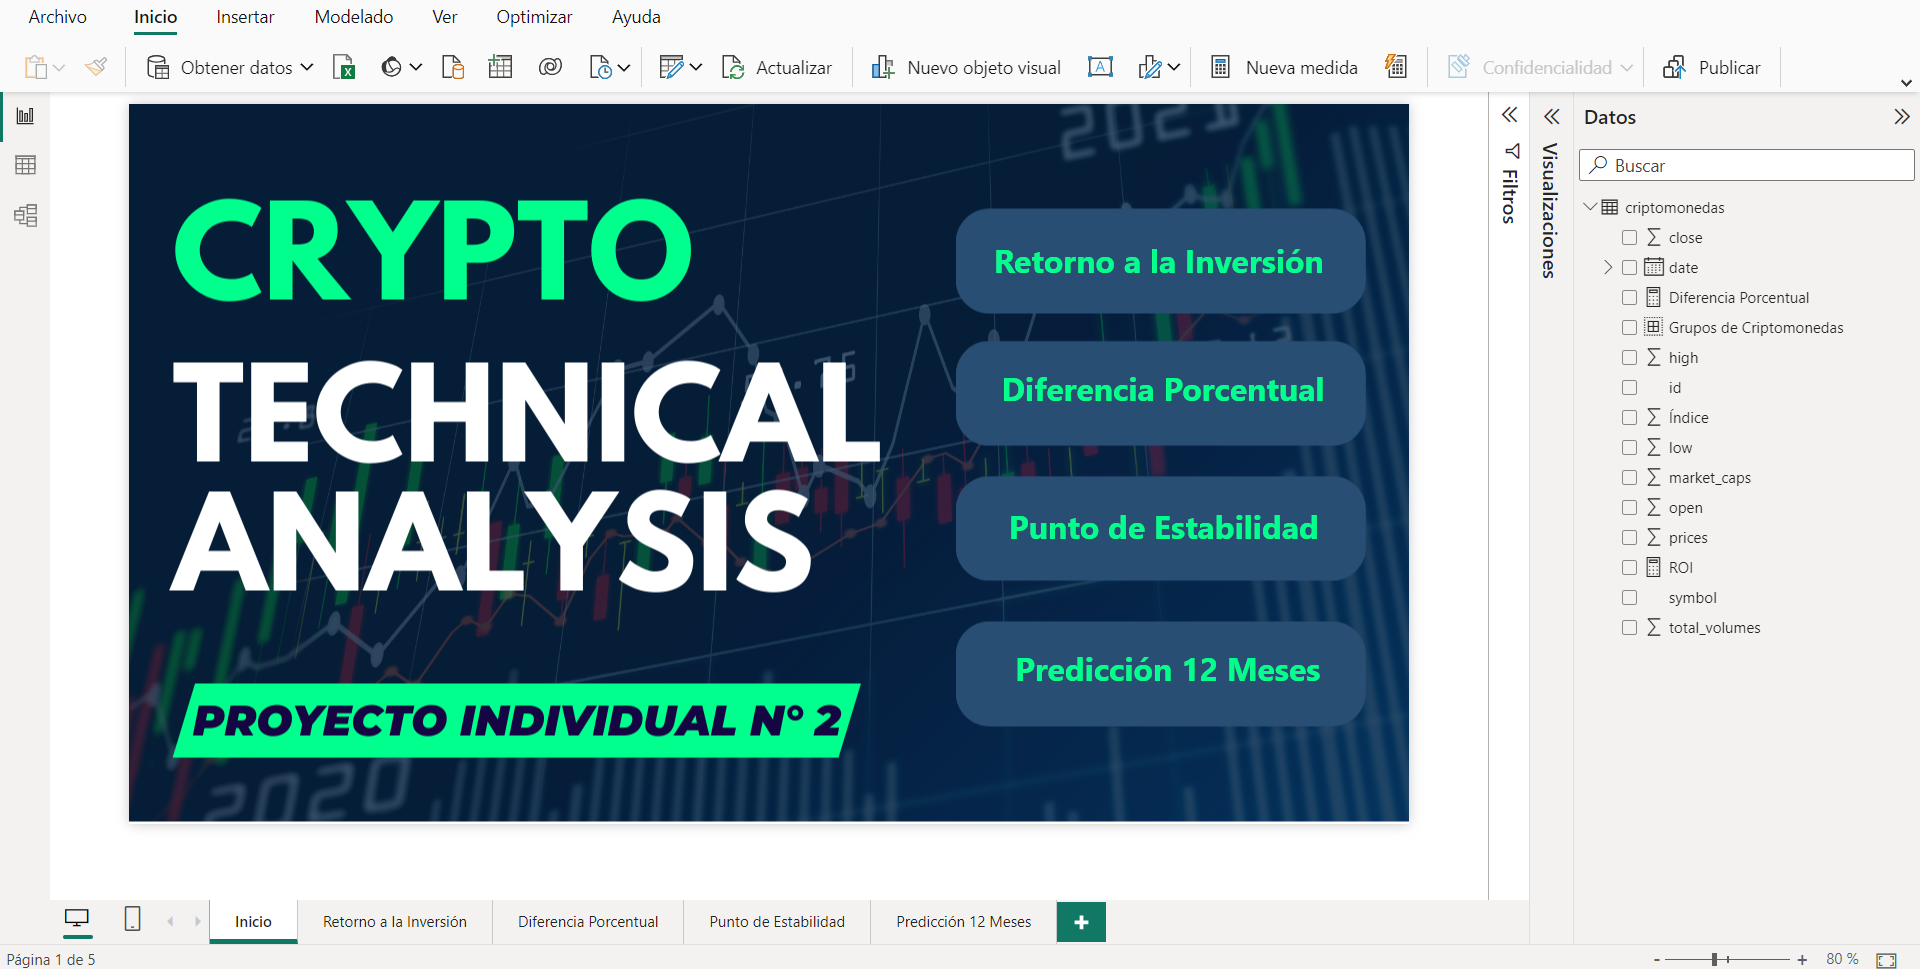

This screenshot's page, from the dashboard's own definition file:
{"tool":"powerbi","page":{"name":"Inicio","canvas":[1280,720],"ordinal":0},"visuals":[{"type":"textbox","box":[875.1,396.3,347.9,61.5],"z":0},{"type":"textbox","box":[867.8,257.8,350,72.2],"z":1000},{"type":"textbox","box":[860,130,357.1,65.7],"z":2000},{"type":"textbox","box":[881.4,537.1,335.7,64.3],"z":3000},{"type":"actionButton","box":[833.8,106.2,396.2,100],"z":4000},{"type":"actionButton","box":[833.8,237.5,383.8,102.5],"z":5000},{"type":"actionButton","box":[833.2,376.7,396.3,102],"z":6000},{"type":"actionButton","box":[833.8,517.5,396.2,105],"z":7000}]}

Visuals, with their boxes on the page's 1280x720 design canvas (x1, y1, x2, y2). These are canvas units, not pixel positions in the 1920x969 screenshot, which may show the page scaled, cropped or inside an application window:
textbox: <box>875,396,1223,458</box>
textbox: <box>868,258,1218,330</box>
textbox: <box>860,130,1217,196</box>
textbox: <box>881,537,1217,601</box>
actionButton: <box>834,106,1230,206</box>
actionButton: <box>834,238,1218,340</box>
actionButton: <box>833,377,1230,479</box>
actionButton: <box>834,518,1230,622</box>
